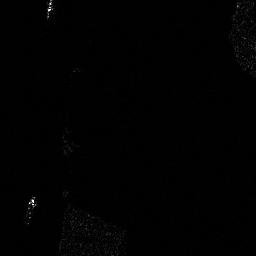ship: (26, 195, 38, 225)
